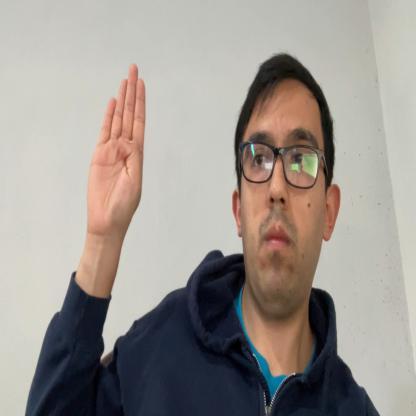B: (88, 60, 146, 242)
